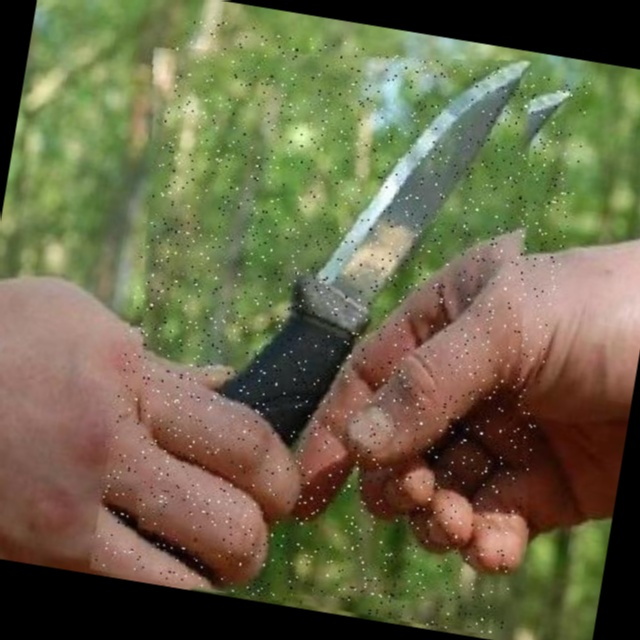Sharp-Object: (89, 15, 591, 636)
